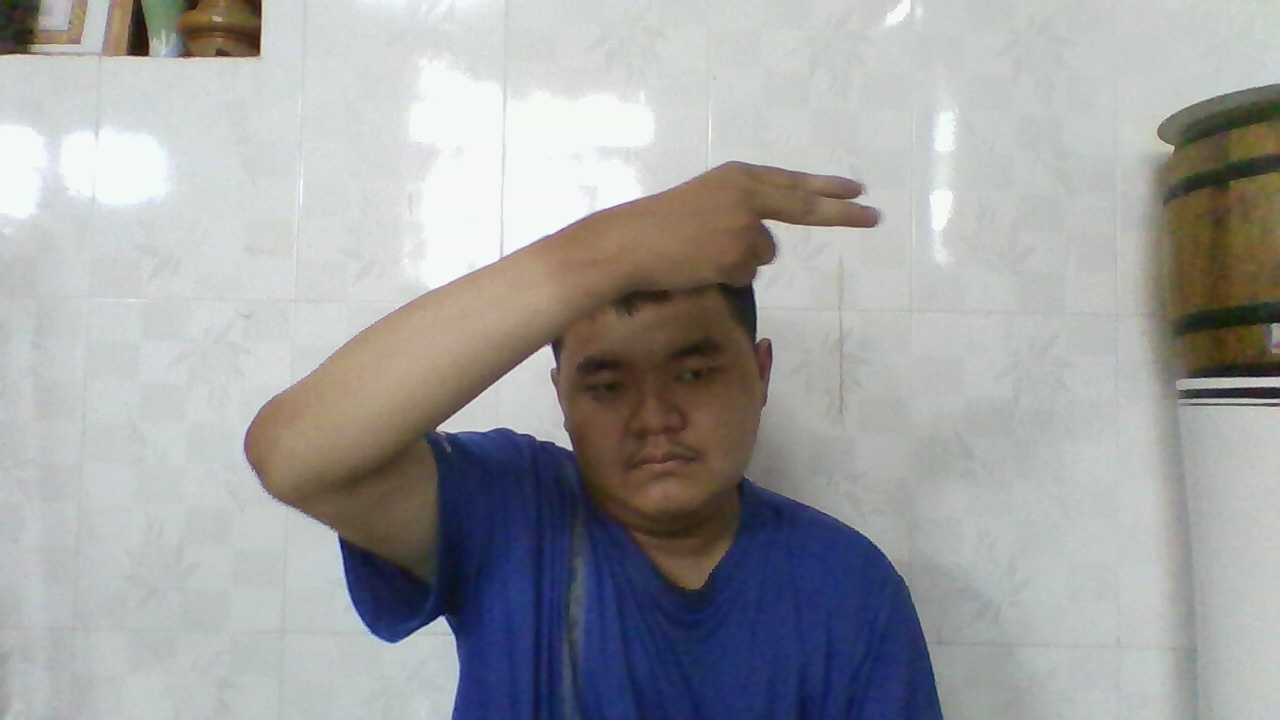U: (606, 154, 888, 297)
